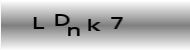7: (110, 16, 123, 29)
D: (54, 13, 70, 27)
L: (31, 16, 45, 30)
k: (87, 19, 101, 32)
n: (67, 25, 80, 37)
